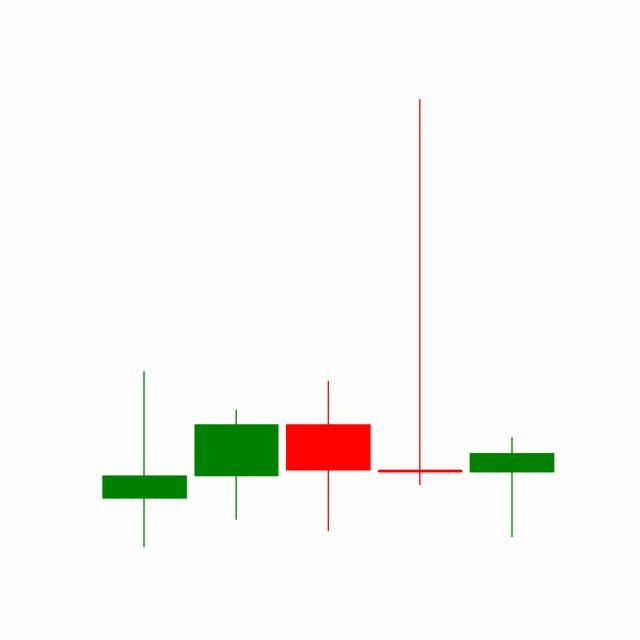Gravestone Doji: (374, 95, 468, 490)
